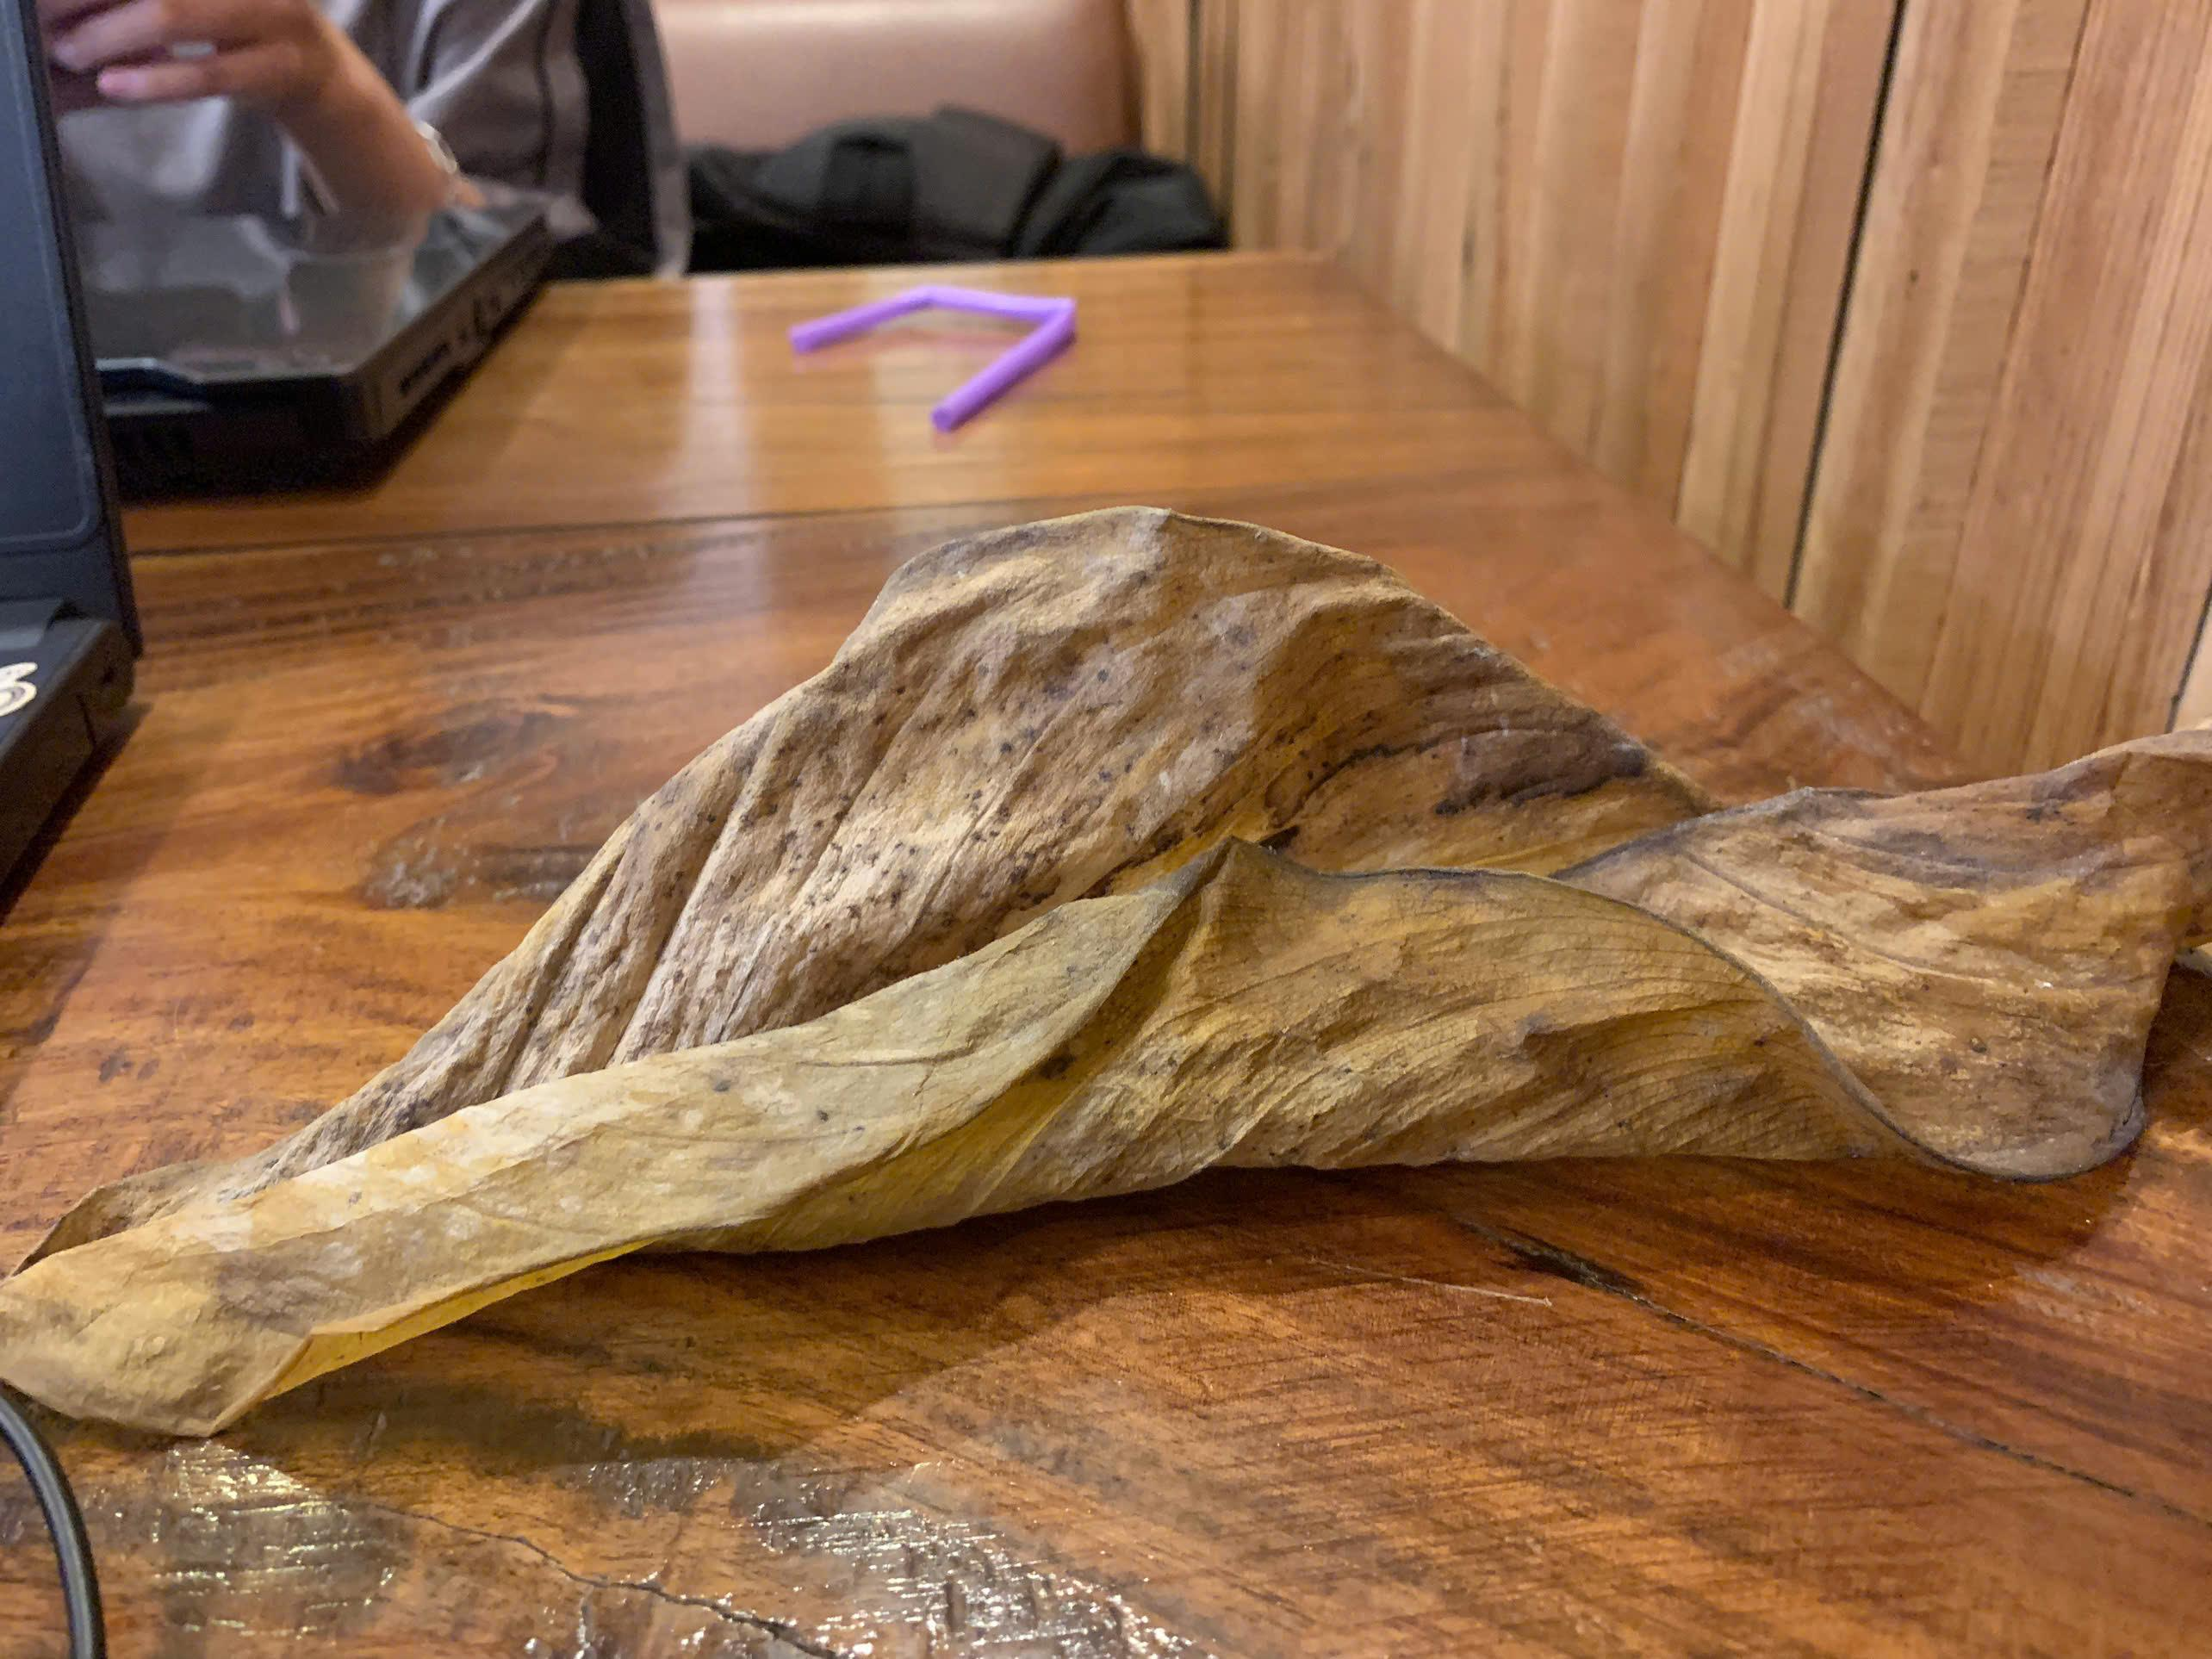Huu co: (0, 514, 2212, 1375)
